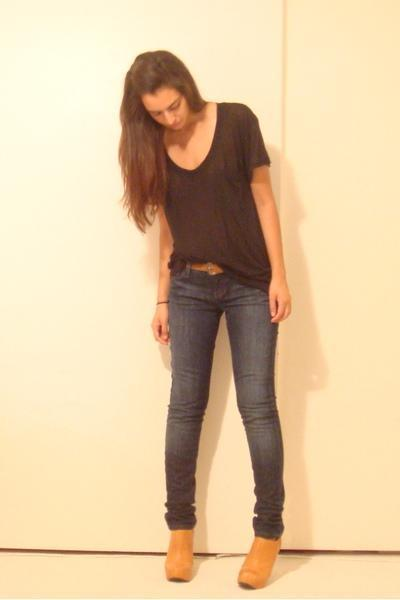pants: (161, 265, 284, 539)
shirt: (162, 102, 271, 293)
shoe: (156, 529, 280, 589)
